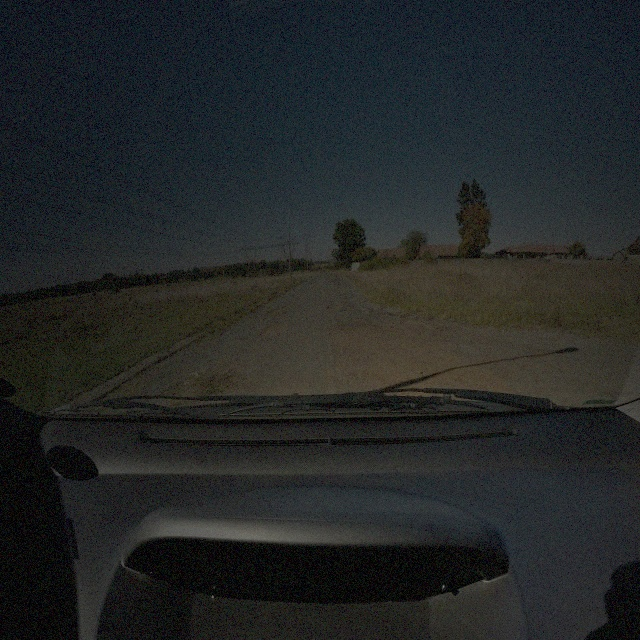pothole: (264, 303, 283, 319), (327, 302, 351, 312)
